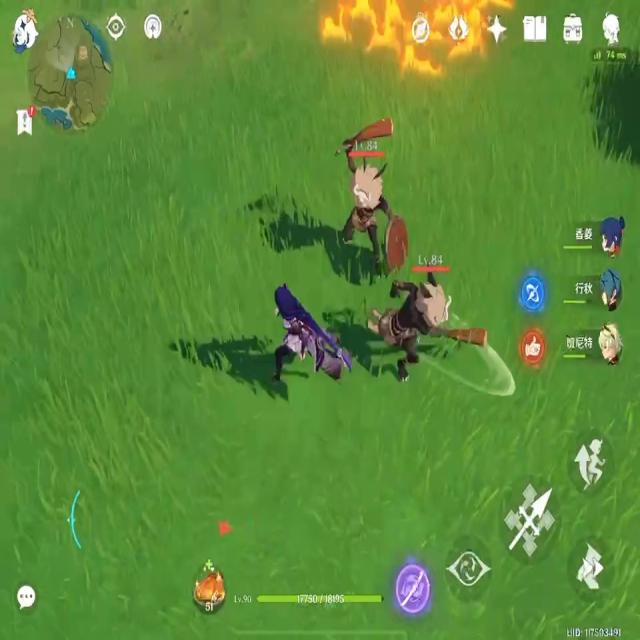genshin-hilichurls: (364, 270, 489, 392), (335, 110, 407, 264)
